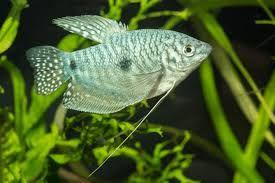Gourami: (26, 15, 213, 183)
